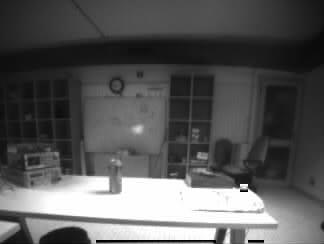Tin can: (109, 159, 121, 193)
